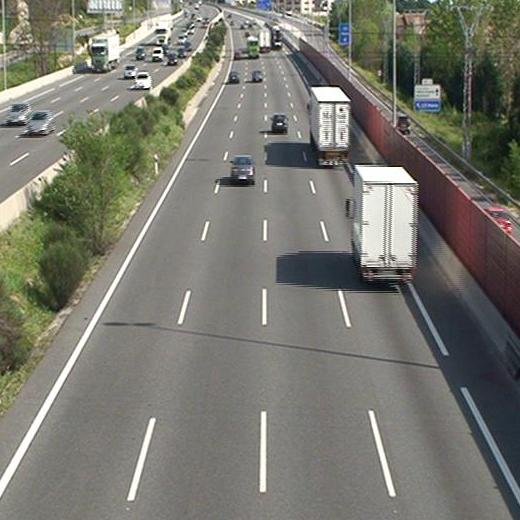bus: (248, 38, 260, 59)
car: (230, 156, 255, 182), (270, 113, 288, 132), (250, 70, 263, 82), (228, 71, 240, 82)
small-truck: (352, 165, 418, 286)
truck: (307, 86, 348, 165)
